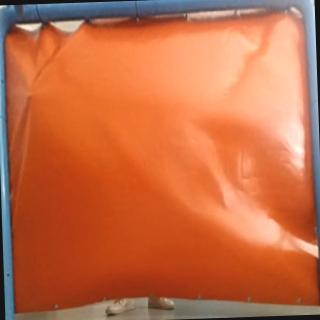Hit-hRxx: (24, 89, 38, 102)
